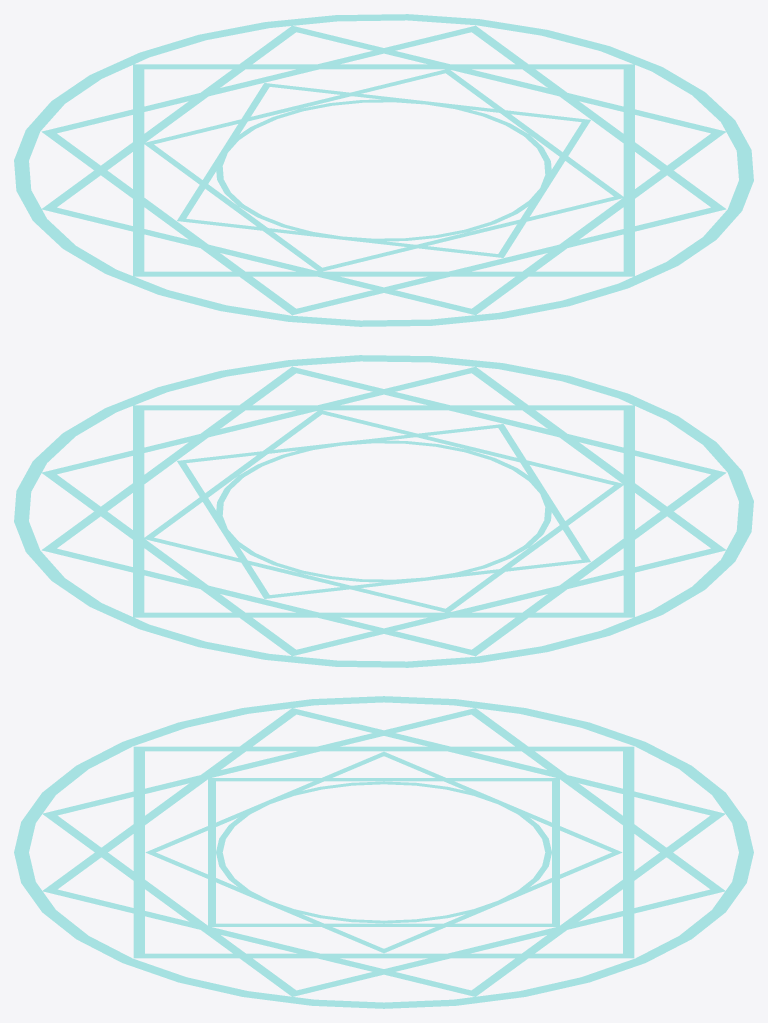
The model's file is magiccircle.fbx.
The picture shows the model from 3 angles, top to bottom: view 1: azimuth 30°, elevation 25°; view 2: azimuth 150°, elevation 25°; view 3: azimuth 270°, elevation 25°; orthographic projection.
Visible parts, largest first — view 1: magiccircle; view 2: magiccircle; view 3: magiccircle.
Part boxes in pixels (x1,y1,x2,y2): magiccircle: [14, 14, 753, 326]; magiccircle: [14, 355, 753, 667]; magiccircle: [14, 696, 753, 1008].
Bounding box in the file's own units: 267 × 4.35e-05 × 267.
